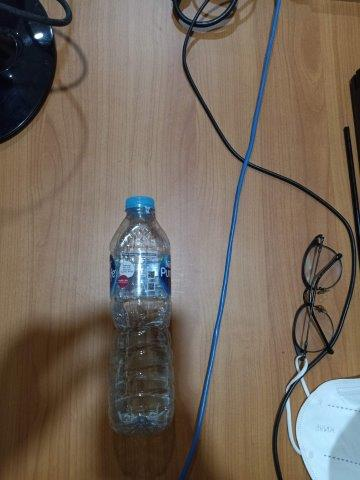botolplastik: (110, 193, 173, 436)
